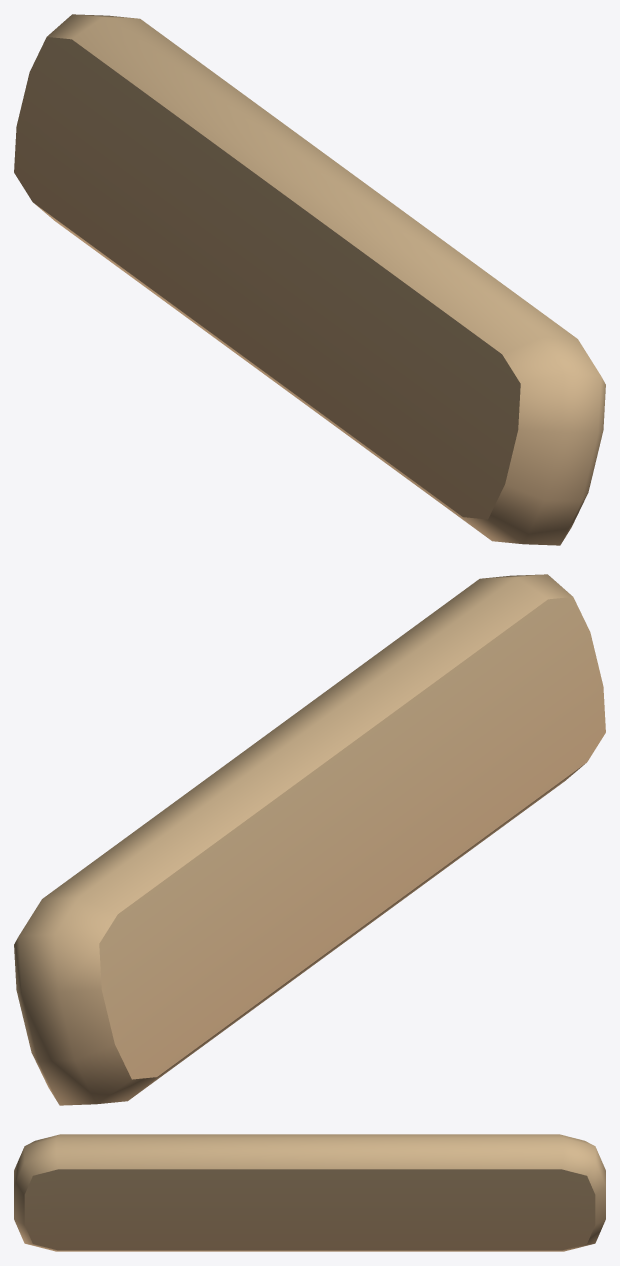
File: pillow-wider-round-reclining.glb
The picture shows the model from 3 angles, top to bottom: view 1: azimuth 30°, elevation 25°; view 2: azimuth 150°, elevation 25°; view 3: azimuth 270°, elevation 25°; orthographic projection. The views are drawn at different scales.
Parts seen in each view (by area): view 1: pillow-wider-round-reclining; view 2: pillow-wider-round-reclining; view 3: pillow-wider-round-reclining.
Part boxes in pixels (bbox=[...]): pillow-wider-round-reclining: bbox=[14, 14, 605, 545]; pillow-wider-round-reclining: bbox=[14, 574, 605, 1105]; pillow-wider-round-reclining: bbox=[14, 1134, 605, 1251].
Size of the model in its own units: 0.194 by 0.3054 by 1.4.
